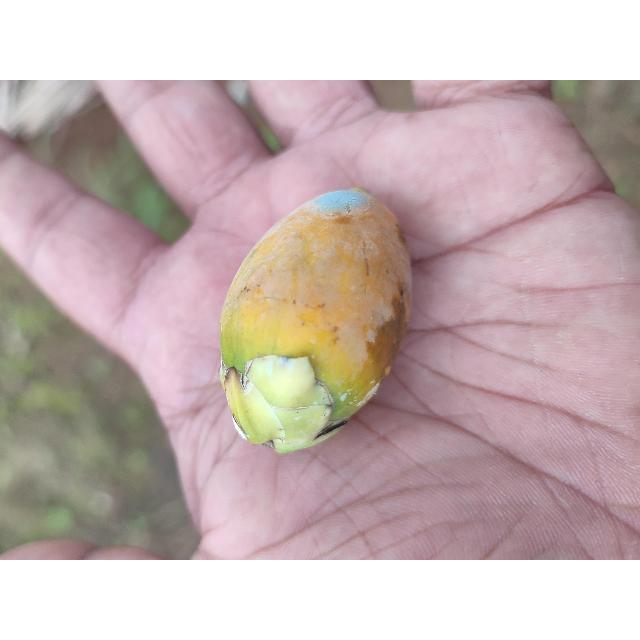good: (218, 189, 413, 456)
